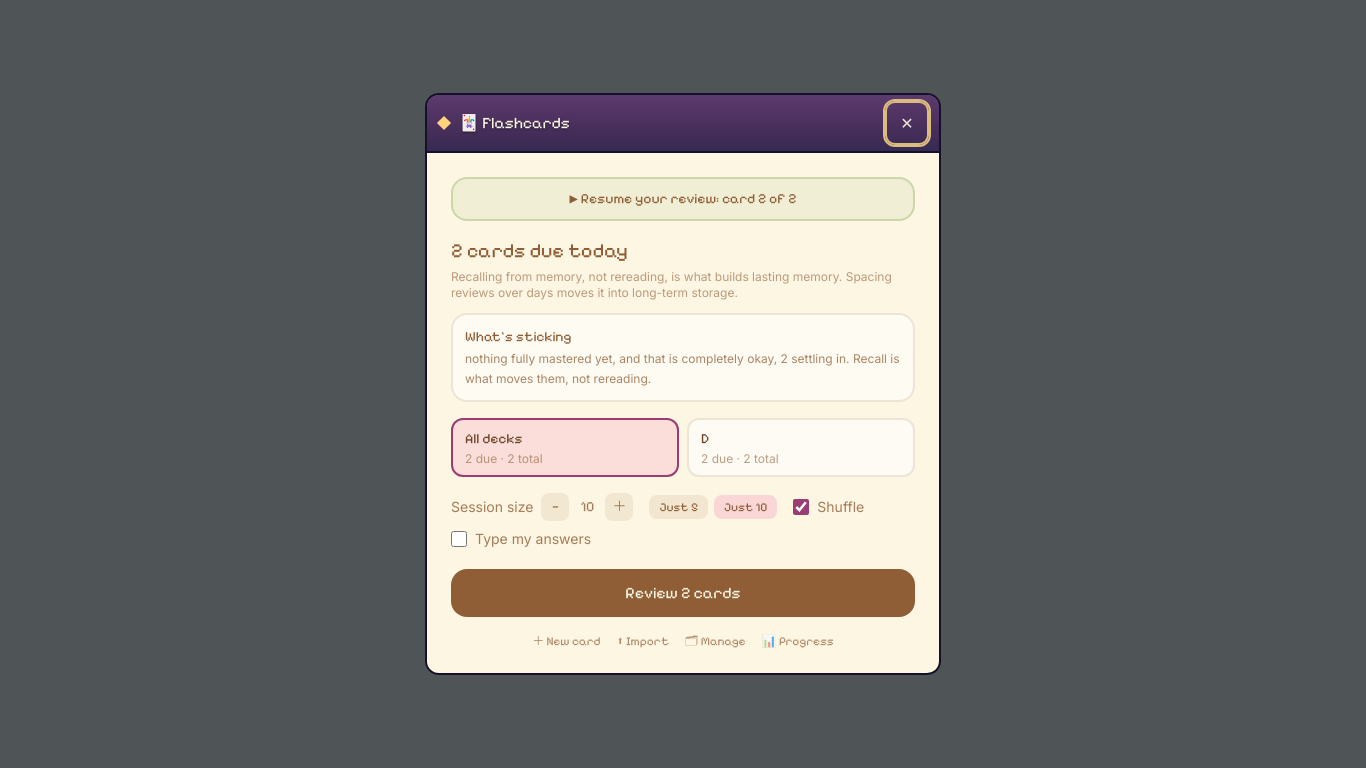
Flashcards — review, reschedule, undo, resume › offers to resume an interrupted session exactly where she left off
Click the button "▶ Resume your review: card 2 of 2".
click(683, 199)  # box [451, 177, 915, 221]
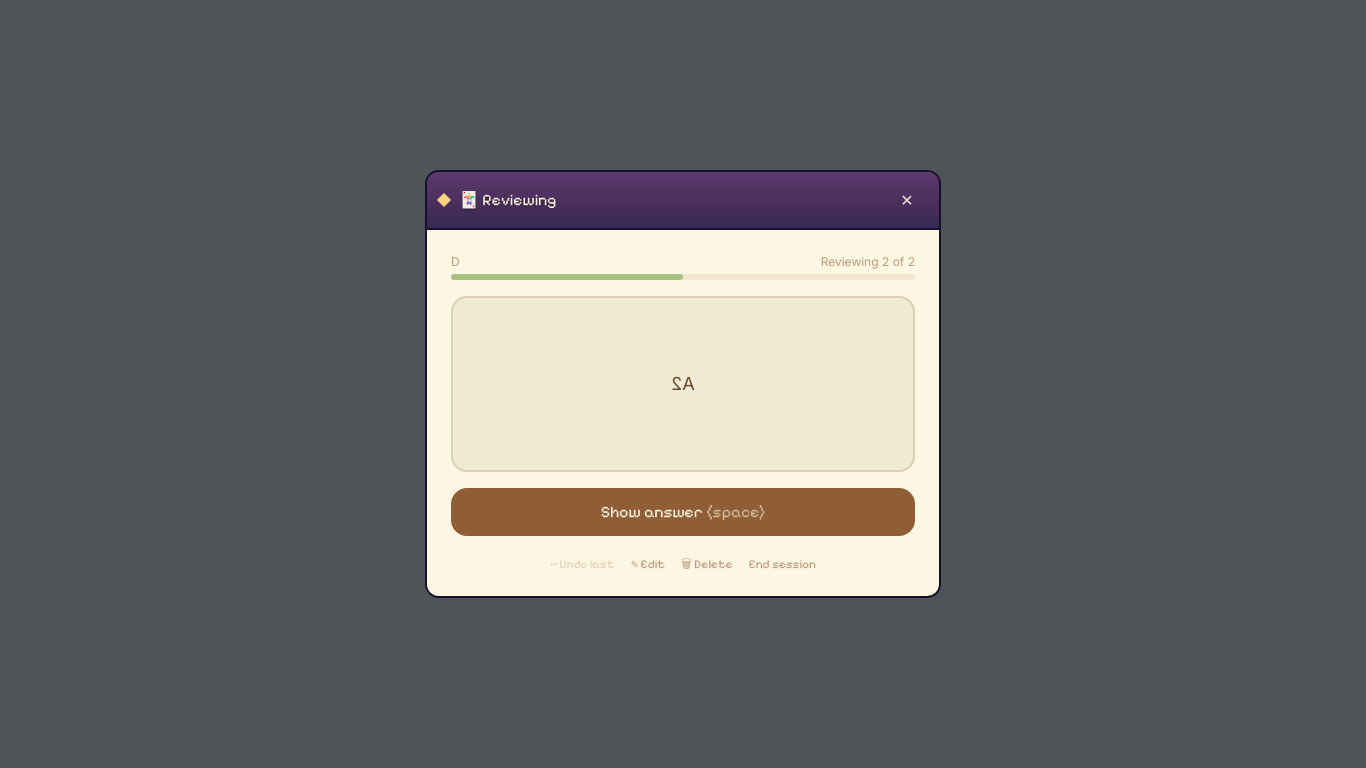
Expected: the text "Reviewing 2 of 2" is shown, [821, 254, 915, 270]
Expected: the text "Q2" is shown, [671, 359, 695, 380]
